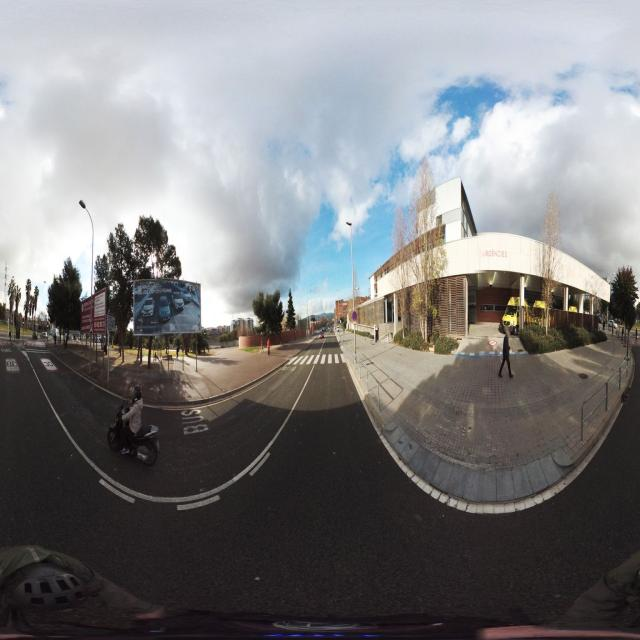forb_stopping: (352, 311, 356, 322)
